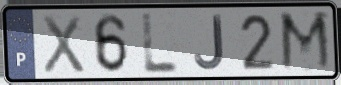2: (238, 12, 278, 72)
6: (91, 12, 131, 75)
J: (192, 13, 226, 72)
L: (141, 11, 182, 75)
M: (278, 9, 336, 74)
X: (40, 13, 87, 76)
